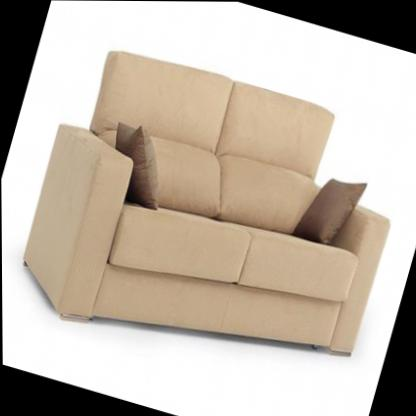Sofa: (6, 32, 416, 403)
